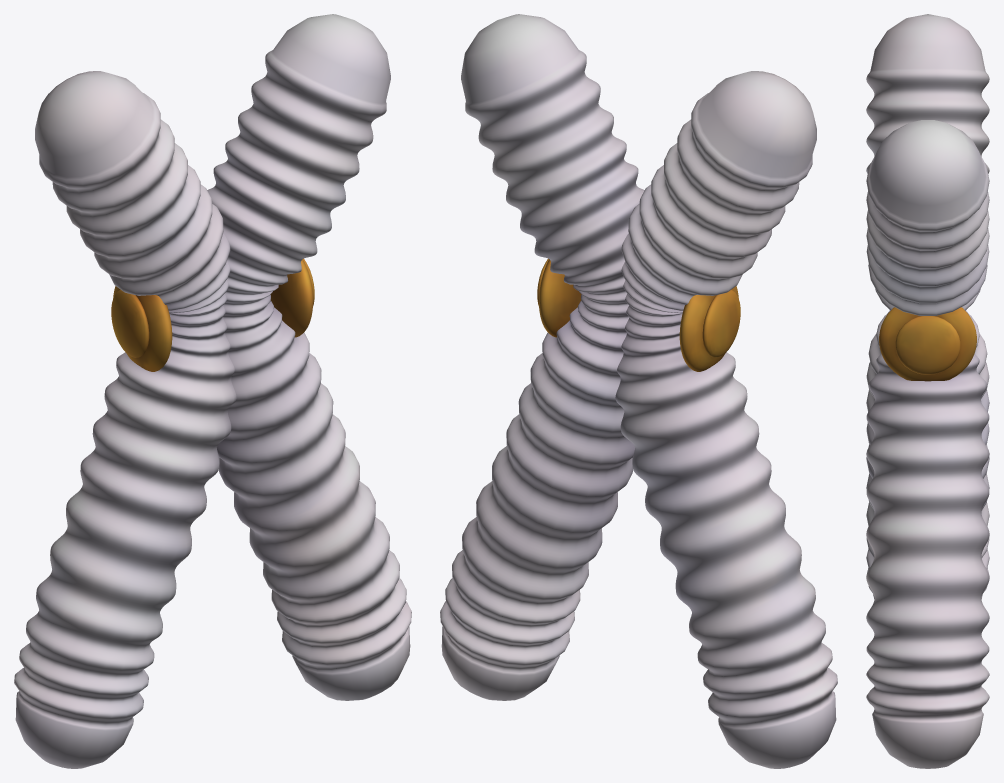
Rendered from chromosome.glb.
The picture shows the model from 3 angles, left to right: view 1: azimuth 30°, elevation 25°; view 2: azimuth 150°, elevation 25°; view 3: azimuth 270°, elevation 25°; orthographic projection. The views are drawn at different scales.
Parts seen in each view (by area): view 1: chromosome-arms, chromosome-kinetochore; view 2: chromosome-arms, chromosome-kinetochore; view 3: chromosome-arms, chromosome-kinetochore.
Part boxes in pixels (x1,y1,x2,y2): chromosome-arms: [14, 14, 411, 768]; chromosome-kinetochore: [111, 258, 314, 371]; chromosome-arms: [440, 14, 837, 768]; chromosome-kinetochore: [537, 258, 740, 371]; chromosome-arms: [866, 14, 989, 768]; chromosome-kinetochore: [879, 307, 976, 381].
Size of what is drawn, in the model's own units: 0.6191 by 1.06 by 0.1885.
